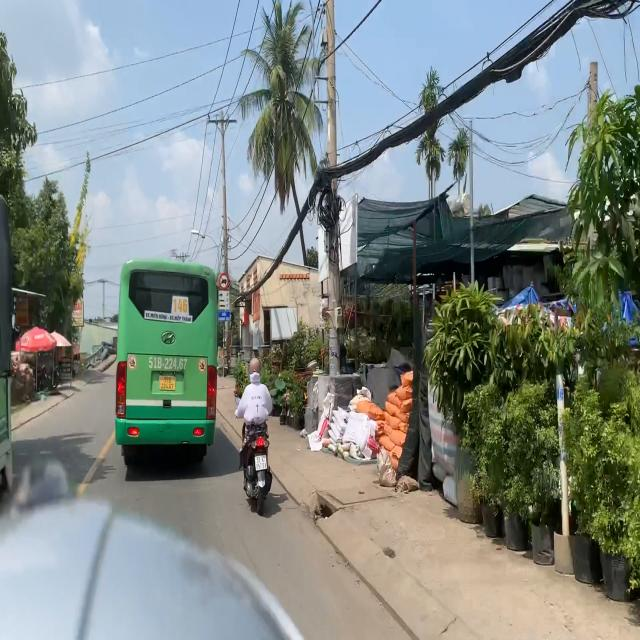Cam con lai: (219, 272, 229, 290)
